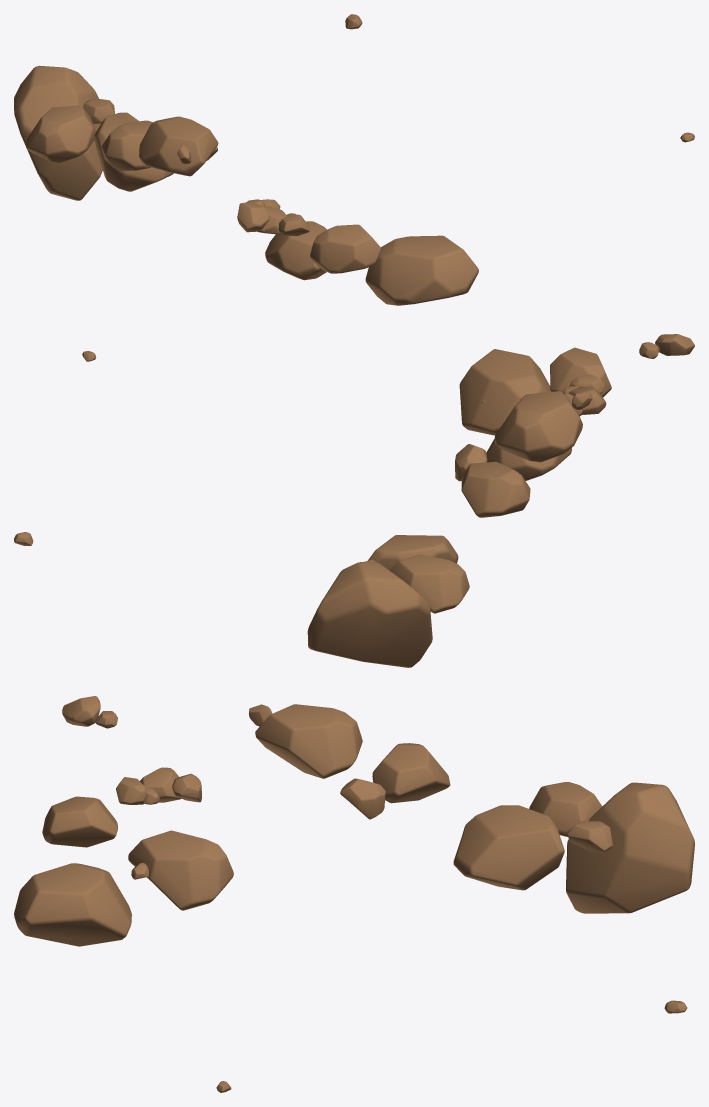
The model's file is rocks.glb.
3 renders of one model, top to bottom at view 1: azimuth 30°, elevation 25°; view 2: azimuth 150°, elevation 25°; view 3: azimuth 270°, elevation 25°, orthographic. The views are drawn at different scales.
Parts seen in each view (by area): view 1: Rocks; view 2: Rocks; view 3: Rocks.
Part boxes in pixels (x1=…): Rocks: x1=14, y1=14, x2=694, y2=305; Rocks: x1=14, y1=334, x2=694, y2=667; Rocks: x1=14, y1=696, x2=694, y2=1092.
Size of the model in its own units: 7.5 by 2.3 by 7.5.
